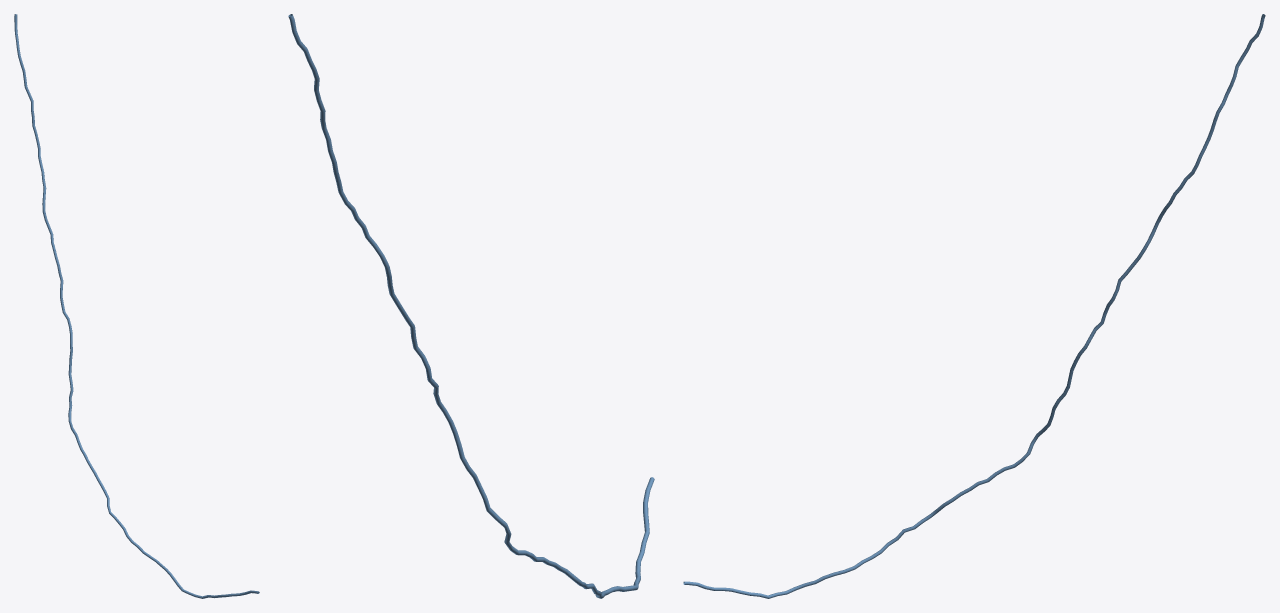
File: sweep218.fbx
3 renders of one model, left to right at view 1: azimuth 30°, elevation 25°; view 2: azimuth 150°, elevation 25°; view 3: azimuth 270°, elevation 25°, orthographic. The views are drawn at different scales.
Visible parts, largest first — view 1: sweep218; view 2: sweep218; view 3: sweep218.
Boxes of the visible parts, left/top/right/bottom form: sweep218: left=14, top=14, right=259, bottom=598; sweep218: left=288, top=14, right=654, bottom=598; sweep218: left=683, top=14, right=1265, bottom=598.
Size of the model in its own units: 0.468 by 3.51 by 3.16.
